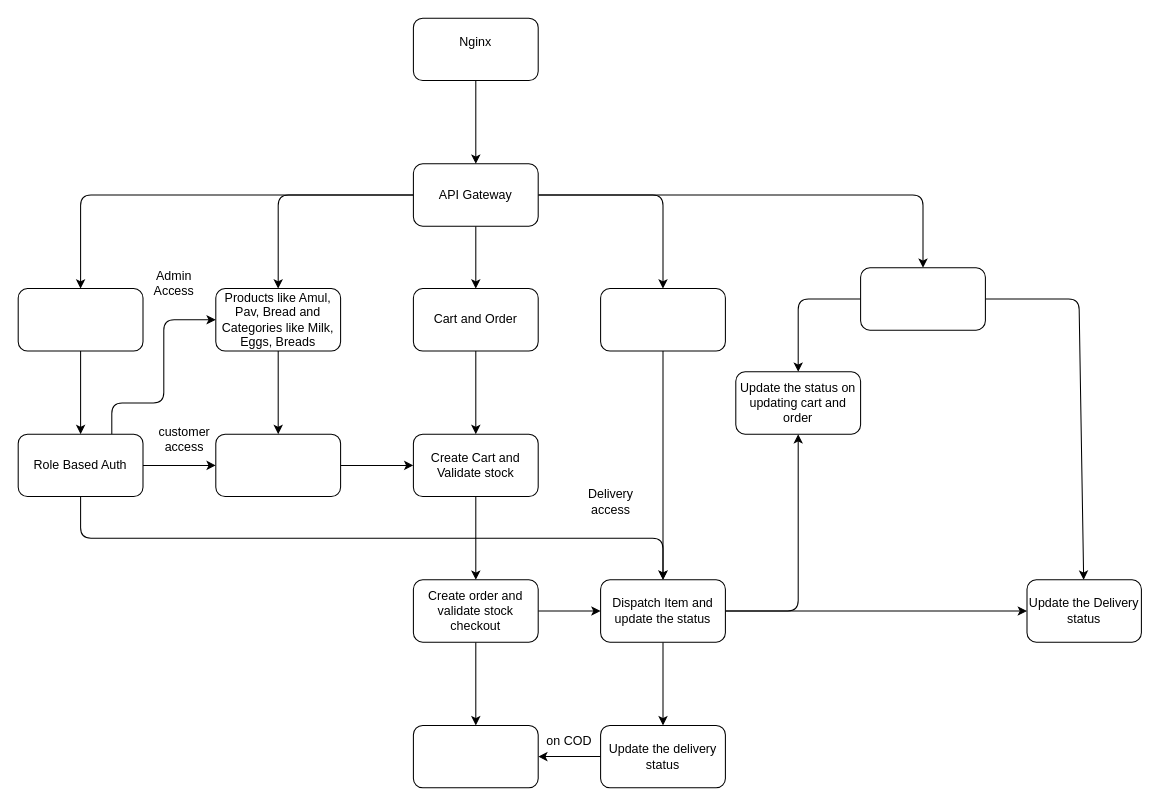
Image size: 1160x806. Some labels were removed from this diagram. Here are the shapes that lost their labels. From the top down, the centre of each, then its label:
point 922,298: Notifications
point 80,319: User Auth Customer, Store, Delivery, Admin
point 662,319: Delivery and Store
point 278,465: Product Inventories Name, Stock, Units
point 475,756: Update Payment status
